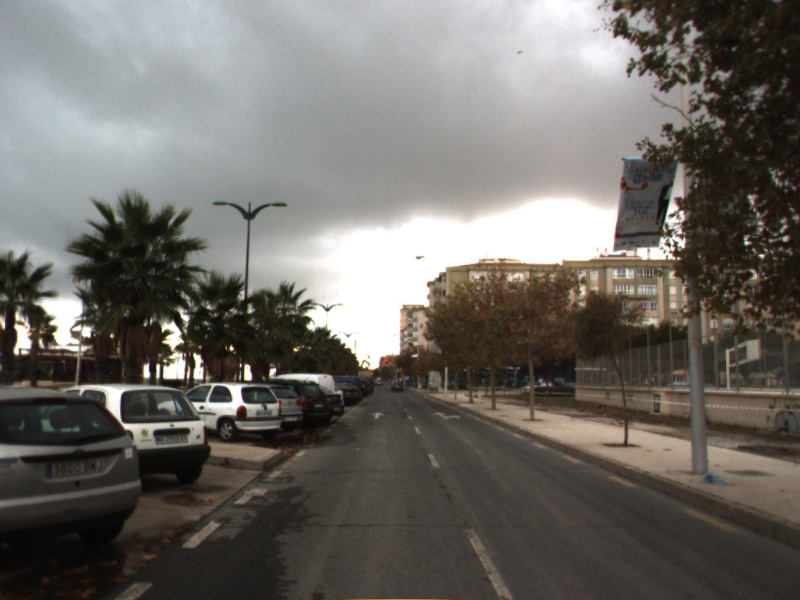STRAIGHT: (369, 411, 386, 420)
STRAIGHT_RIGHT: (432, 410, 462, 422)
